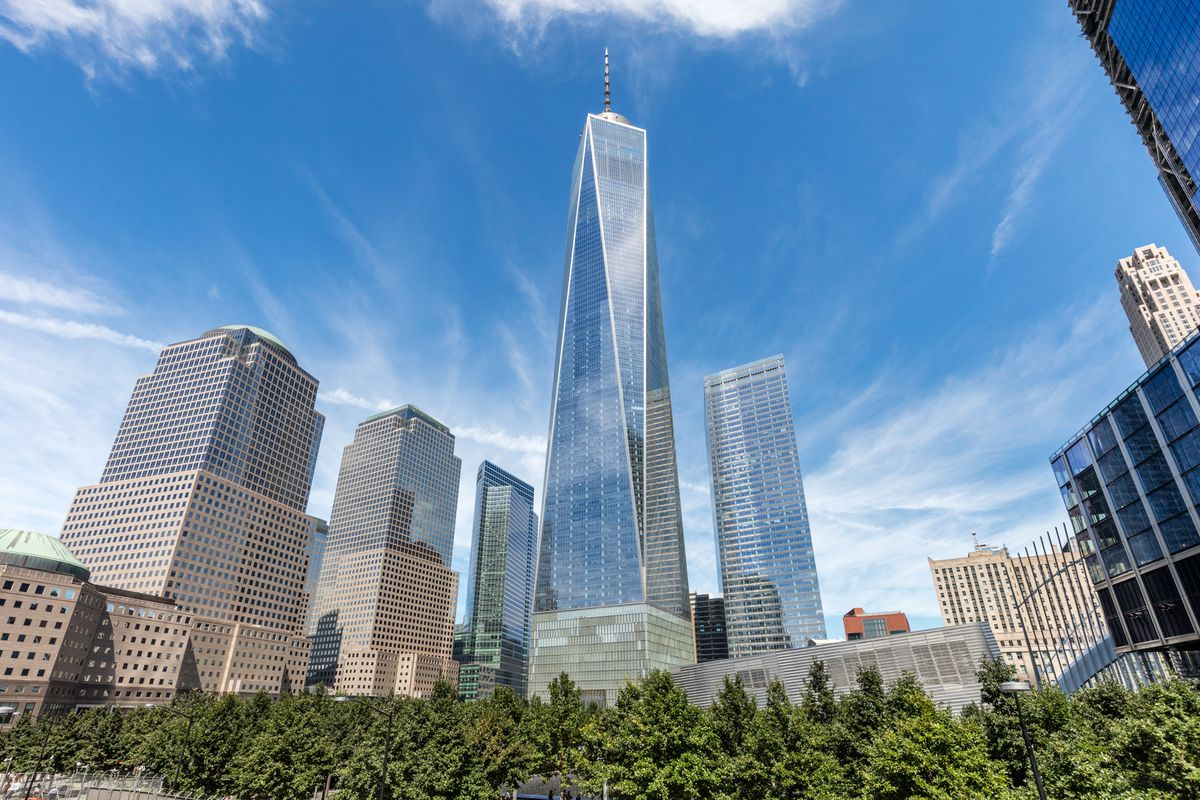wtc: (530, 44, 698, 672)
